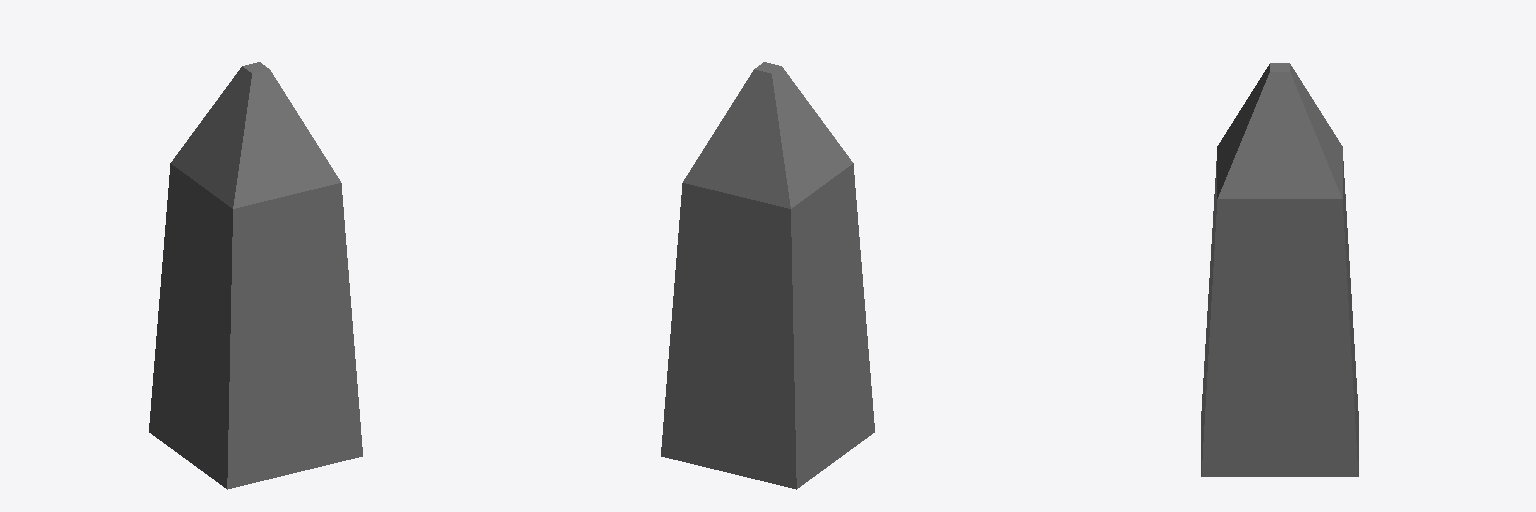
Rendered from ruinPillarCol_01.obj.
3 views of the same model, side by side, from view 1: azimuth 30°, elevation 25°; view 2: azimuth 150°, elevation 25°; view 3: azimuth 270°, elevation 25° (orthographic).
Parts seen in each view (by area): view 1: pCube4; view 2: pCube4; view 3: pCube4.
Part boxes in pixels (left/top/right/bottom): pCube4: left=149, top=62, right=362, bottom=489; pCube4: left=661, top=62, right=874, bottom=489; pCube4: left=1201, top=63, right=1358, bottom=476.
Size of the model in its own units: 1.28 by 3.39 by 1.28.